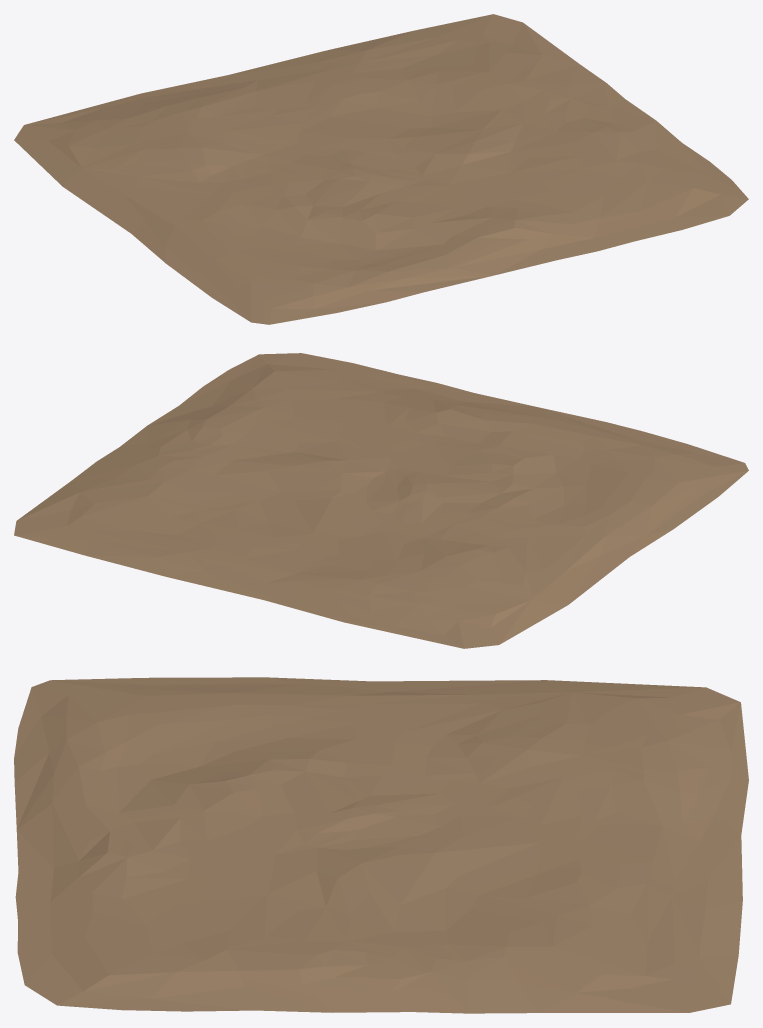
File: SM_Generic_Ground_Flat_01.glb
The picture shows the model from 3 angles, top to bottom: view 1: azimuth 30°, elevation 25°; view 2: azimuth 150°, elevation 25°; view 3: azimuth 270°, elevation 25°; orthographic projection. The views are drawn at different scales.
Visible parts, largest first — view 1: SM_Generic_Ground_Flat_01; view 2: SM_Generic_Ground_Flat_01; view 3: SM_Generic_Ground_Flat_01.
Part boxes in pixels (x1,y1,x2,y2): SM_Generic_Ground_Flat_01: (14,14,748,324); SM_Generic_Ground_Flat_01: (14,353,748,648); SM_Generic_Ground_Flat_01: (14,677,748,1013).
Bounding box in the file's own units: 20.74 × 0.4643 × 19.23.
Materials: 1 (1 with a texture image).
